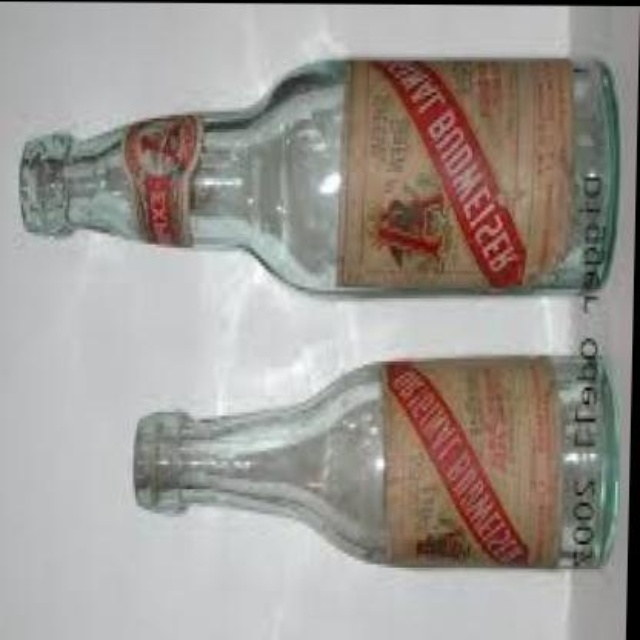trash: (20, 60, 617, 291), (134, 338, 615, 566), (378, 63, 474, 162)
